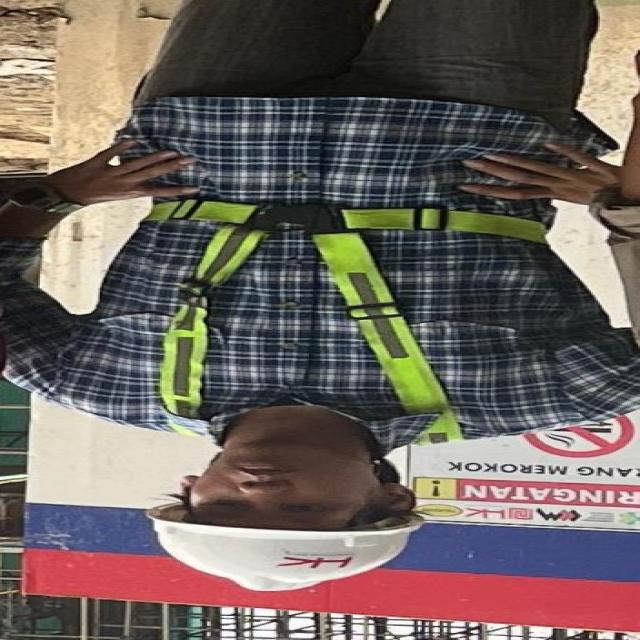safetyhelmet: (127, 476, 436, 596)
